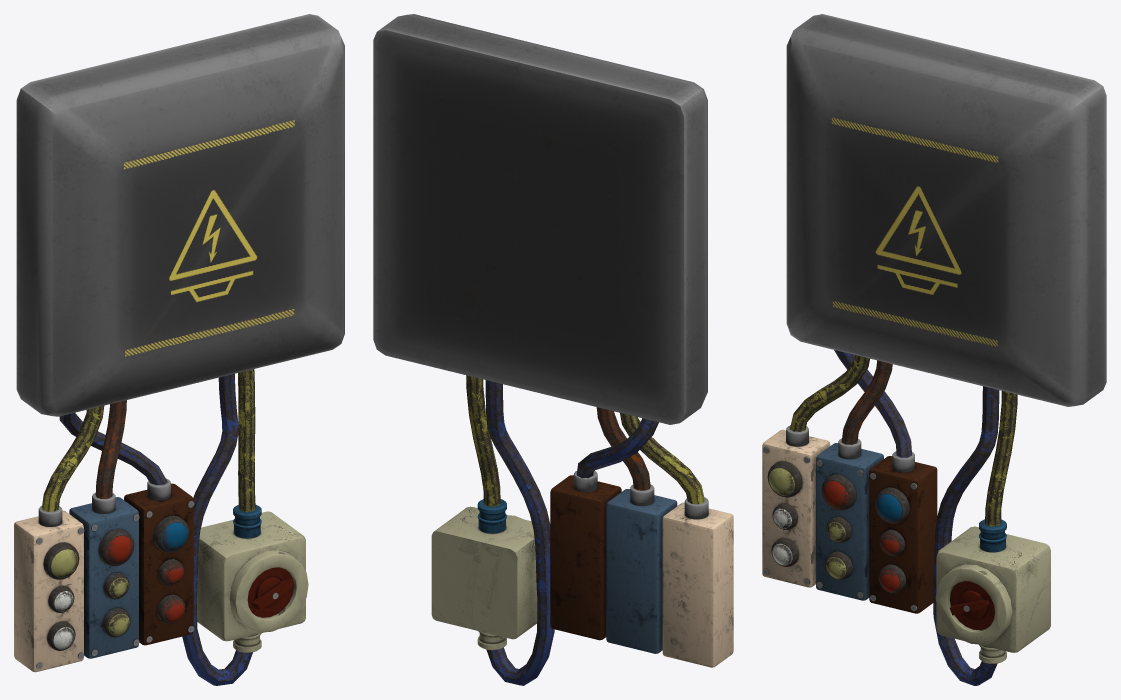
The model's file is uploads_files_5811388_POWER+SOURCE.fbx.
3 views of the same model, side by side, from view 1: azimuth 30°, elevation 25°; view 2: azimuth 150°, elevation 25°; view 3: azimuth 330°, elevation 25° (orthographic). The views are drawn at different scales.
Visible parts, largest first — view 1: POWER SOURCE - PLATE, POWER SOURCE - BUTTONS; view 2: POWER SOURCE - PLATE, POWER SOURCE - BUTTONS; view 3: POWER SOURCE - PLATE, POWER SOURCE - BUTTONS.
Boxes of the visible parts, <box> form: POWER SOURCE - PLATE: <box>16,14,344,685</box>; POWER SOURCE - BUTTONS: <box>14,478,194,672</box>; POWER SOURCE - PLATE: <box>373,14,707,685</box>; POWER SOURCE - BUTTONS: <box>550,471,733,667</box>; POWER SOURCE - PLATE: <box>786,14,1106,685</box>; POWER SOURCE - BUTTONS: <box>762,425,937,613</box>.
Size of the model in its own units: 589 by 1103 by 156.
